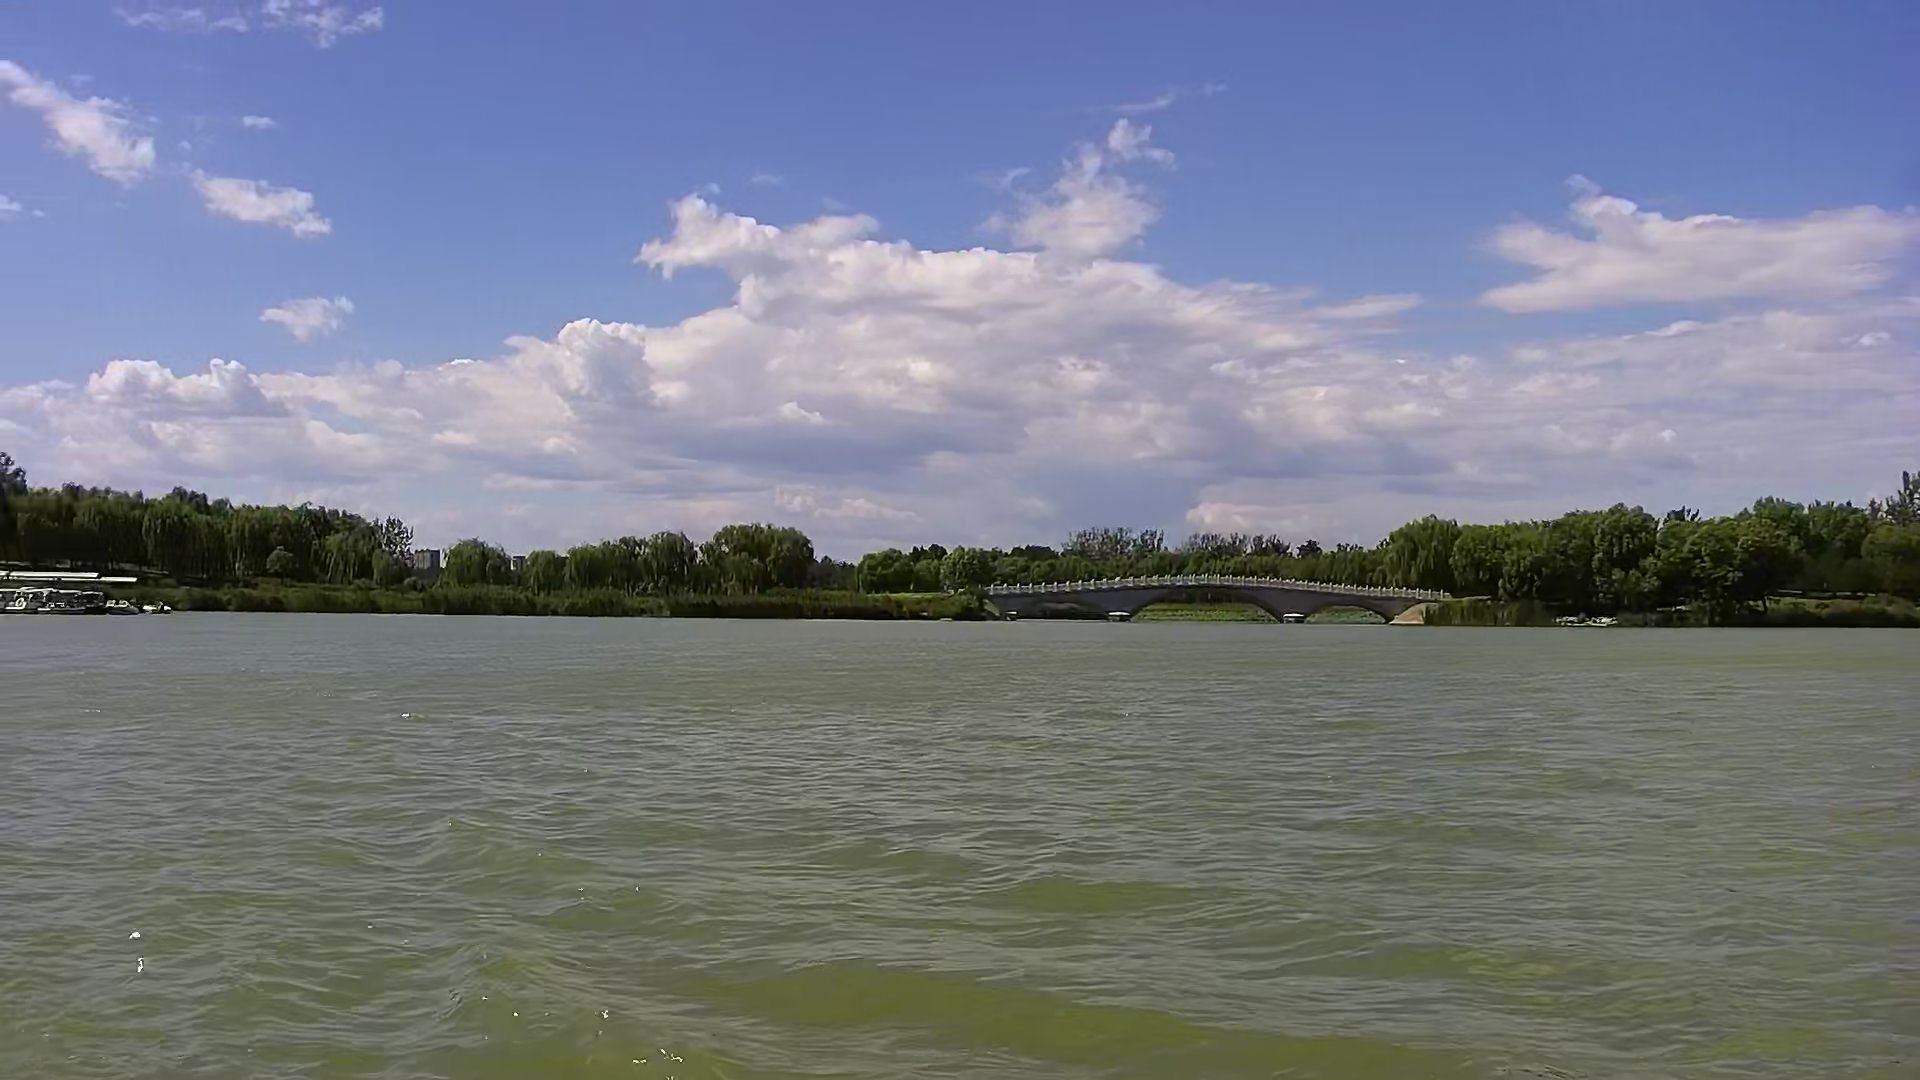bridge: (978, 567, 1464, 636)
